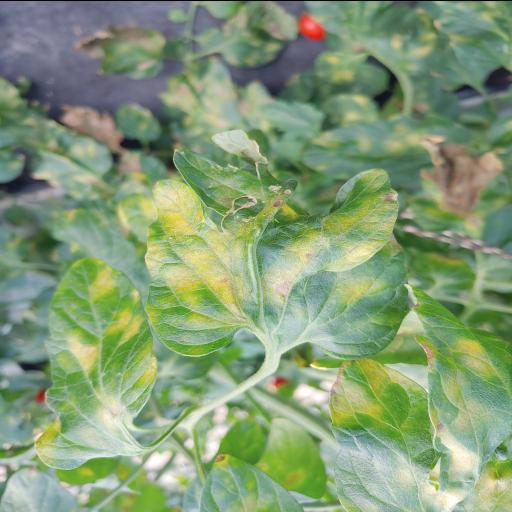disease_tomato: (143, 128, 410, 358), (36, 255, 158, 469), (328, 357, 439, 512)
